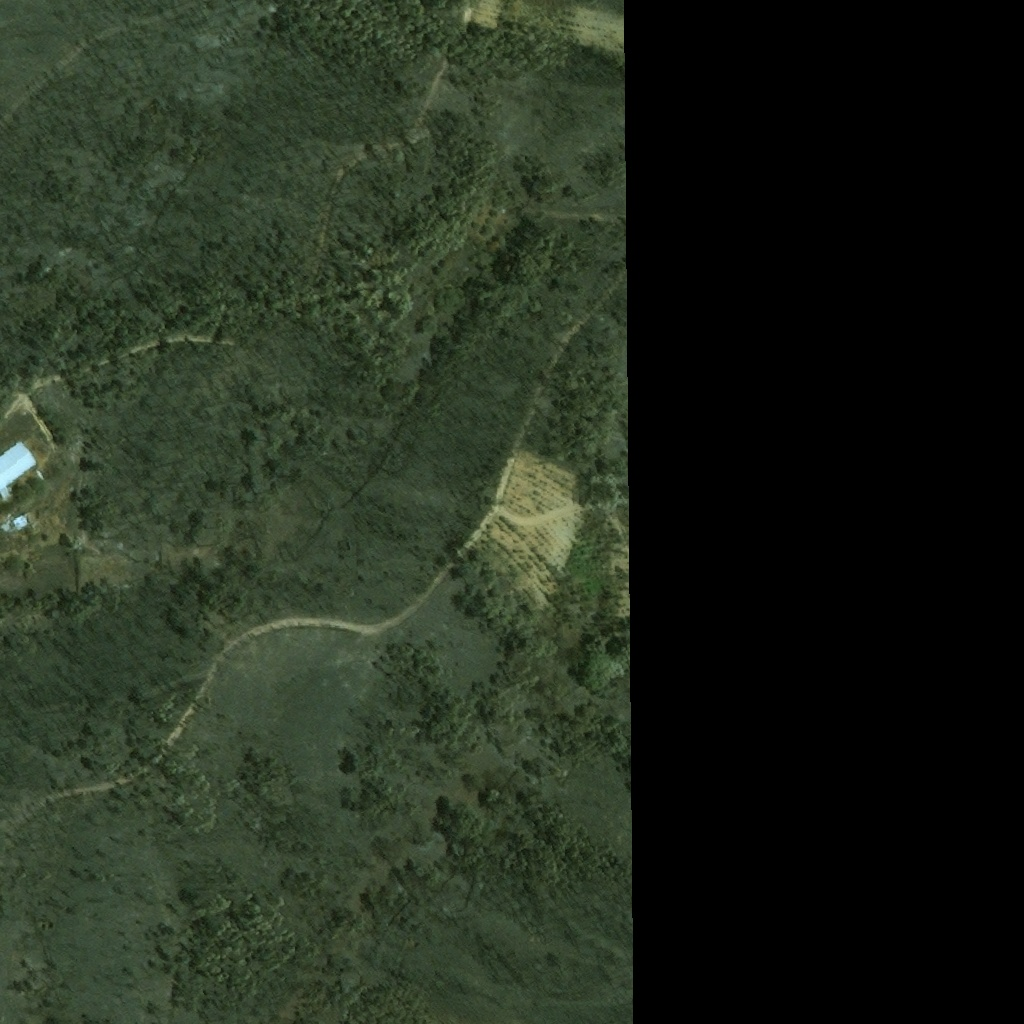0 no-damage: (0, 441, 36, 499)
2 major-damage: (8, 509, 36, 534)
